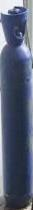cylinder: (1, 1, 33, 210)
